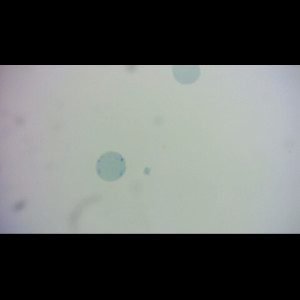punctate reticulocyte: (95, 150, 127, 182)
